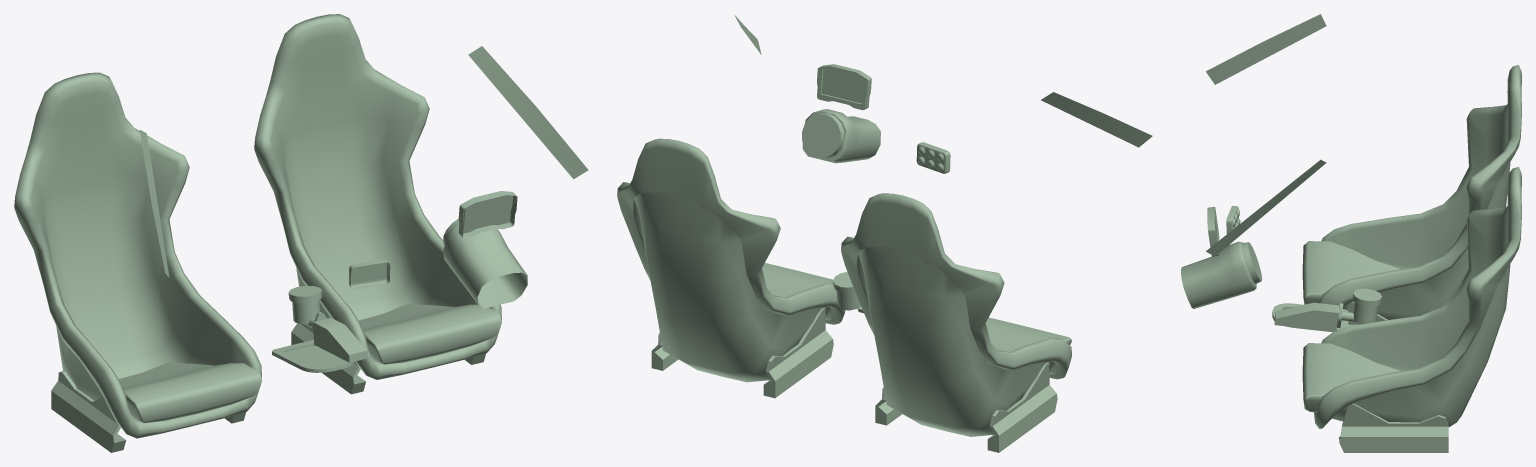
Rendered from AdamLZ_E36_Inside_Inside.fbx.
3 renders of one model, left to right at view 1: azimuth 30°, elevation 25°; view 2: azimuth 150°, elevation 25°; view 3: azimuth 270°, elevation 25°, orthographic. The views are drawn at different scales.
Visible parts, largest first — view 1: AdamLZ_E36_Inside_Inside; view 2: AdamLZ_E36_Inside_Inside; view 3: AdamLZ_E36_Inside_Inside.
Part boxes in pixels (x1,y1,x2,y2): AdamLZ_E36_Inside_Inside: [14, 14, 588, 452]; AdamLZ_E36_Inside_Inside: [617, 15, 1152, 452]; AdamLZ_E36_Inside_Inside: [1181, 14, 1521, 452].
Bounding box in the file's own units: 129 × 95.96 × 103.
